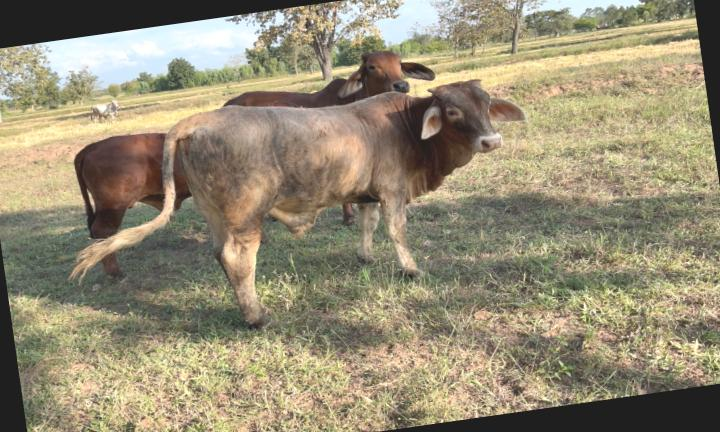Charolais: (71, 79, 525, 327)
